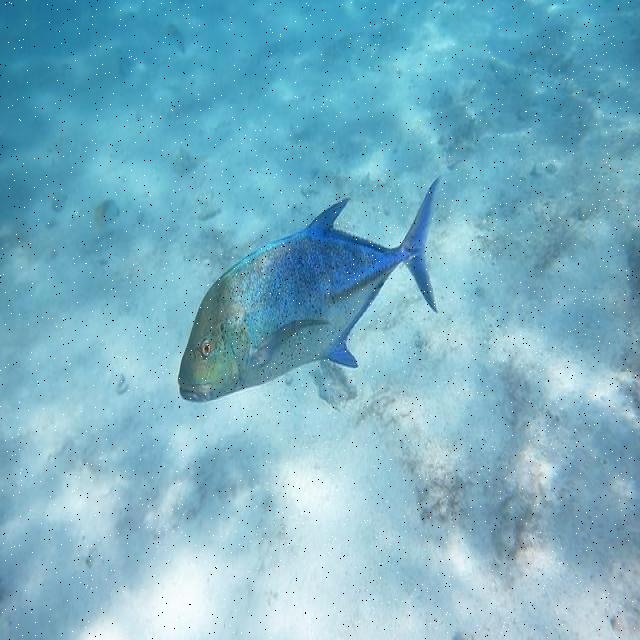fish: (181, 177, 439, 402)
